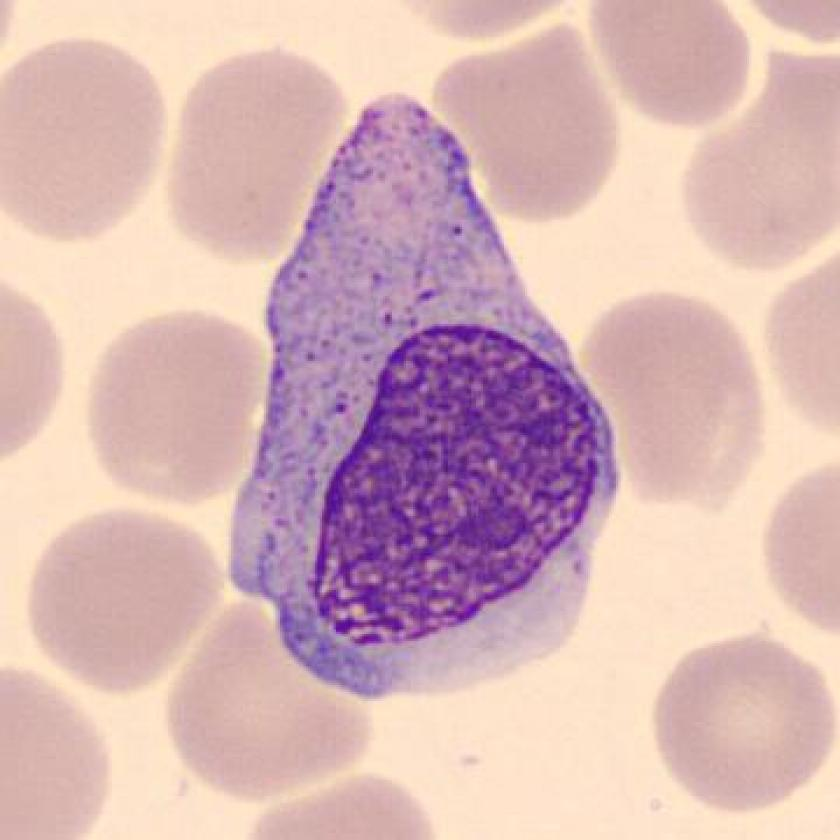monocyte: (209, 61, 647, 725)
